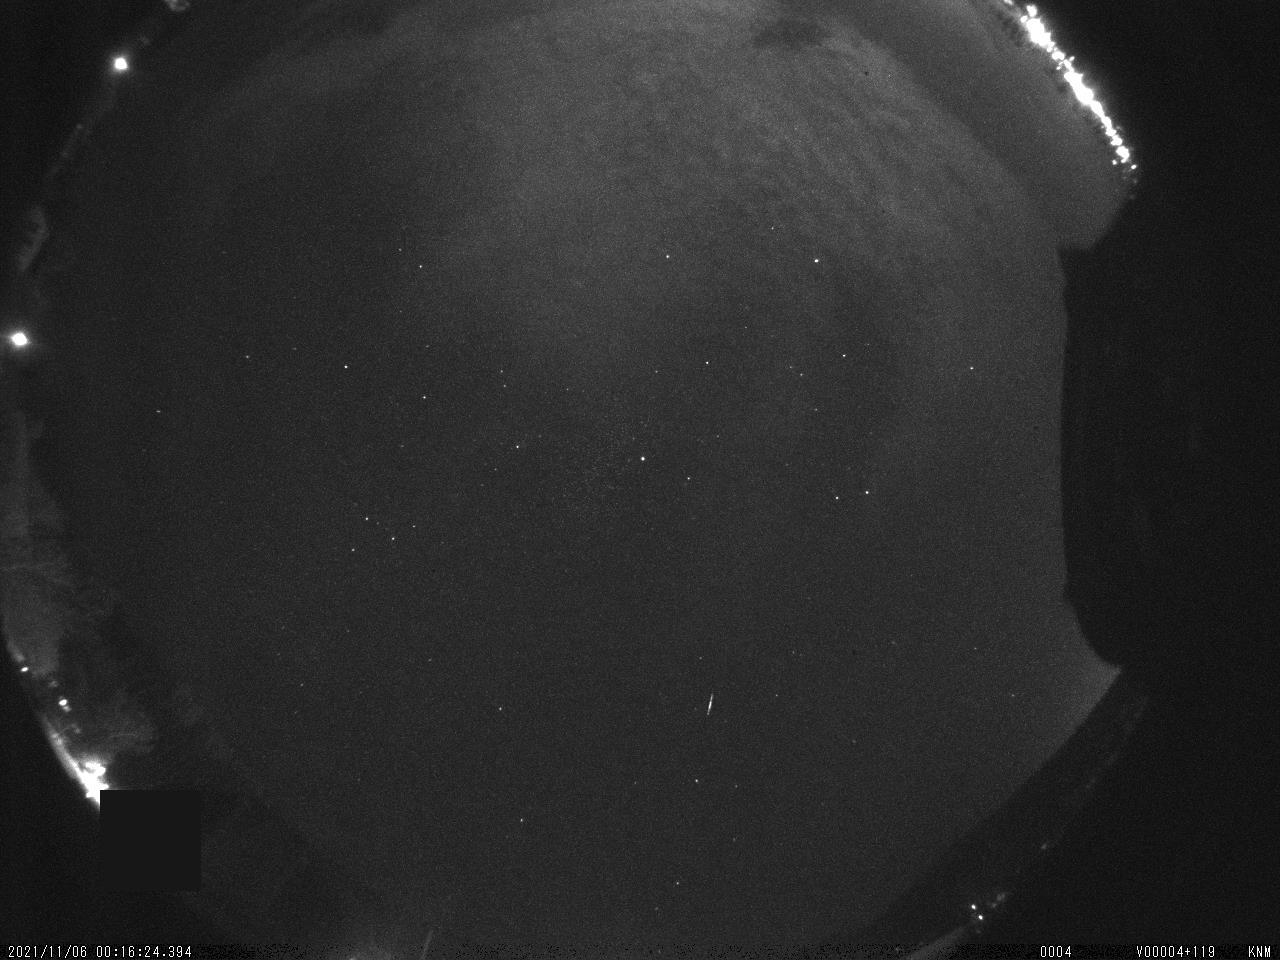meteor: (699, 690, 722, 717)
